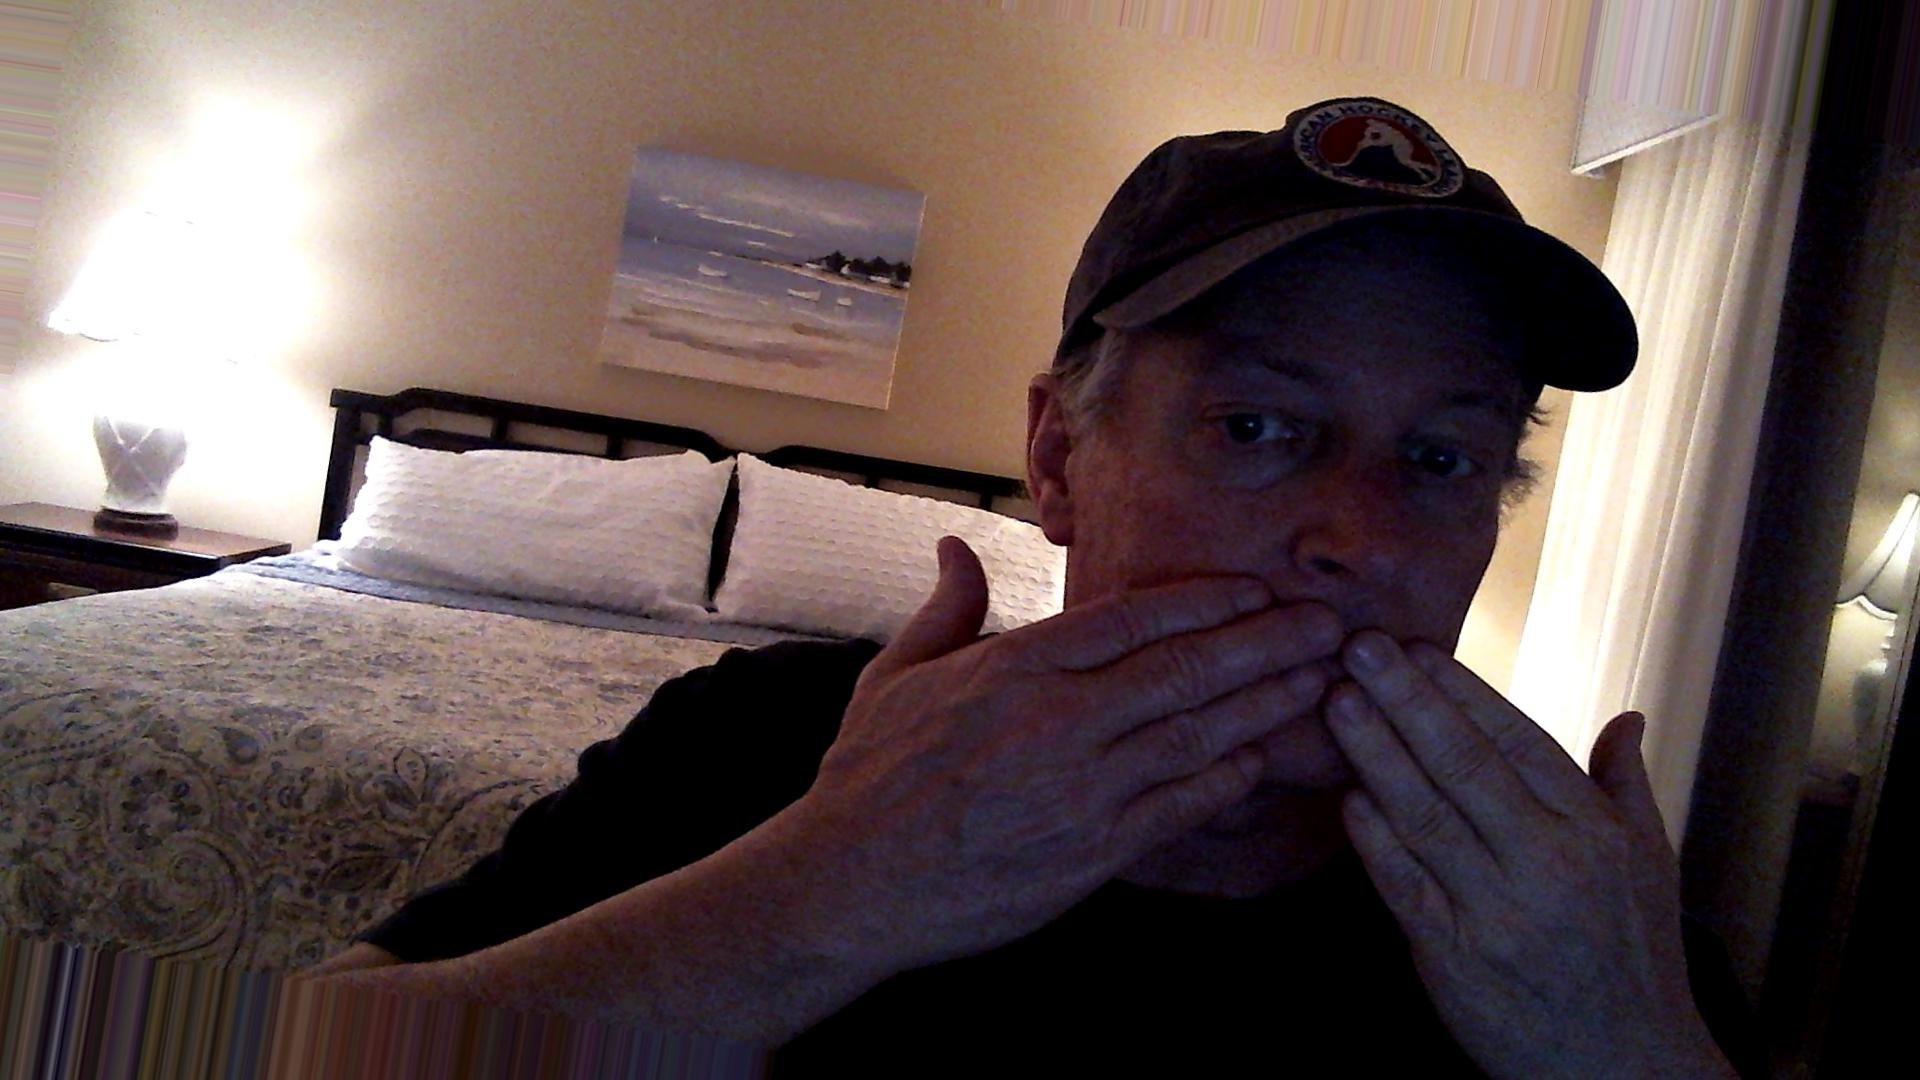Thank You: (835, 524, 1687, 1002)
